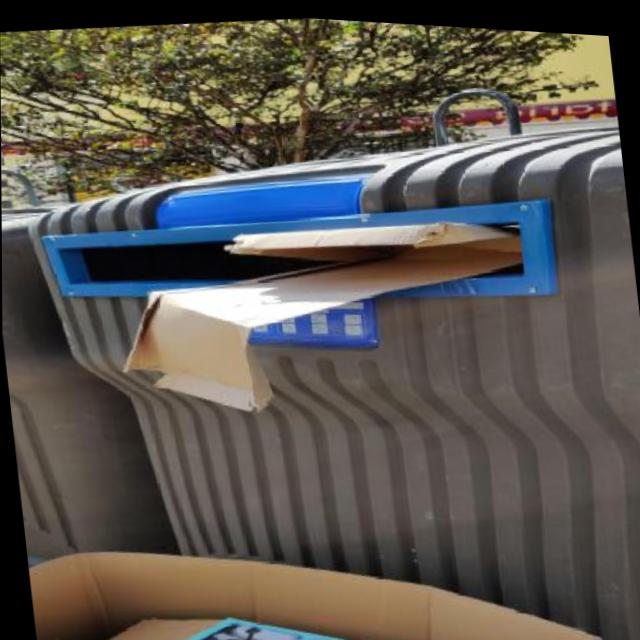cardboard: (102, 193, 548, 446), (27, 492, 613, 640)
